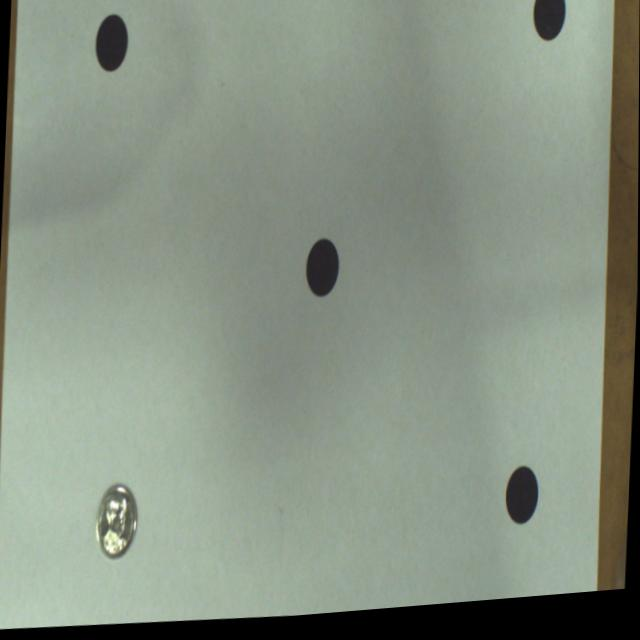head1bath: (97, 487, 137, 559)
space: (96, 485, 137, 559), (305, 242, 340, 302), (94, 15, 128, 74), (306, 242, 339, 302), (506, 473, 539, 532), (532, 0, 565, 49), (533, 0, 565, 50)
